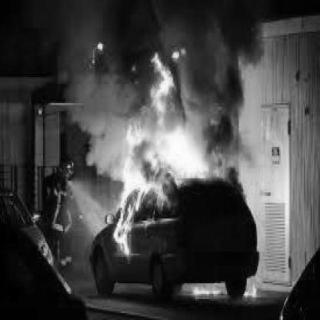Smoke: (166, 15, 282, 113)
